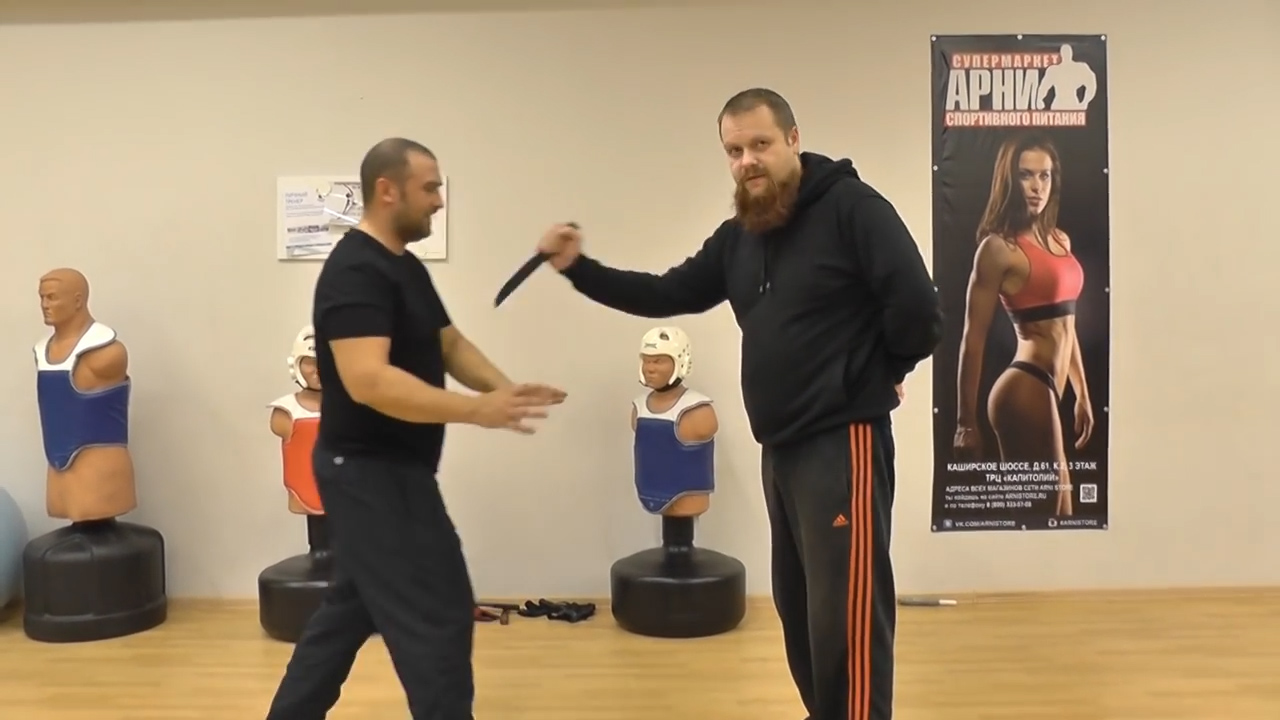knife: (486, 218, 586, 312)
